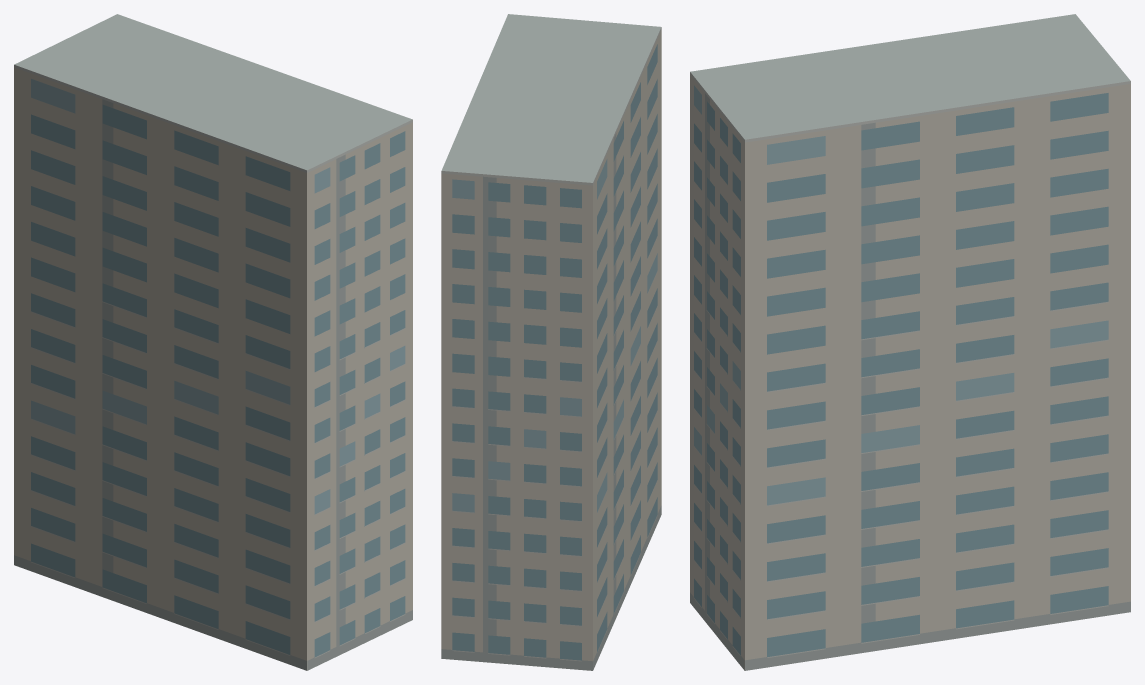
Rendered from residential-e3c82299-abb8-4dec-9d93-92af2c3ae594.glb.
The picture shows the model from 3 angles, left to right: view 1: azimuth 30°, elevation 25°; view 2: azimuth 150°, elevation 25°; view 3: azimuth 270°, elevation 25°; orthographic projection. The views are drawn at different scales.
Parts seen in each view (by area): view 1: residential-e3c82299-abb8-4dec-9d93-92af2c3ae594.tmp; view 2: residential-e3c82299-abb8-4dec-9d93-92af2c3ae594.tmp; view 3: residential-e3c82299-abb8-4dec-9d93-92af2c3ae594.tmp.
Part boxes in pixels (x1,y1,x2,y2): residential-e3c82299-abb8-4dec-9d93-92af2c3ae594.tmp: [14, 14, 412, 670]; residential-e3c82299-abb8-4dec-9d93-92af2c3ae594.tmp: [441, 14, 661, 670]; residential-e3c82299-abb8-4dec-9d93-92af2c3ae594.tmp: [690, 14, 1130, 670].
Bounding box in the file's own units: 23.37 × 46 × 34.61.
